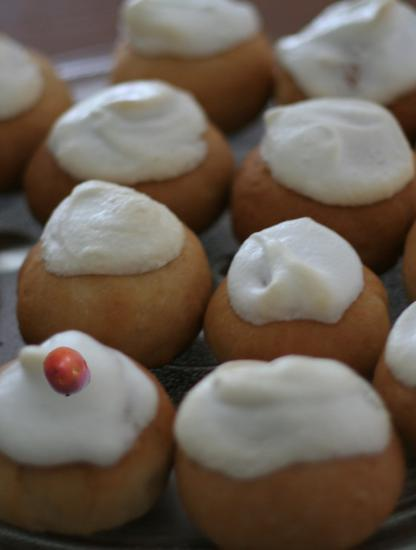Potato: (41, 346, 92, 397)
